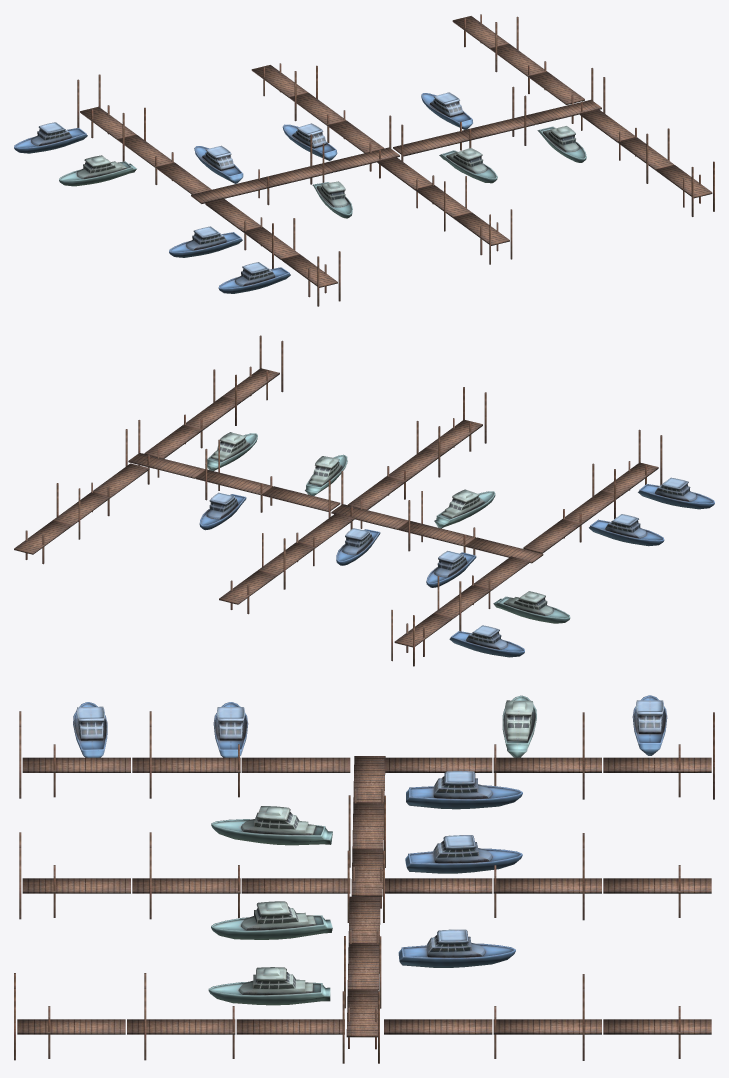
Rendered from Harbor.glb.
The picture shows the model from 3 angles, top to bottom: view 1: azimuth 30°, elevation 25°; view 2: azimuth 150°, elevation 25°; view 3: azimuth 270°, elevation 25°; orthographic projection. The views are drawn at different scales.
Visible parts, largest first — view 1: Cube.022; view 2: Cube.022; view 3: Cube.022.
Boxes of the visible parts, box(x1,y1,x2,y2) form: Cube.022: box(14, 14, 714, 306); Cube.022: box(14, 335, 714, 666); Cube.022: box(14, 695, 714, 1063).
Size of the model in its own units: 32.7 by 3.2 by 28.47.
Materials: 1 (1 with a texture image).
